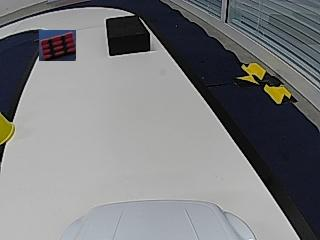block: (106, 15, 150, 55)
cone: (0, 111, 17, 143)
